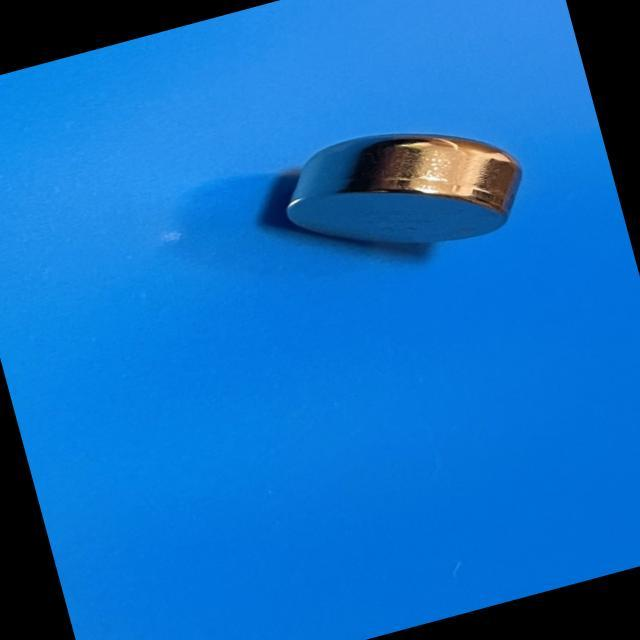COIN: (269, 98, 536, 284)
